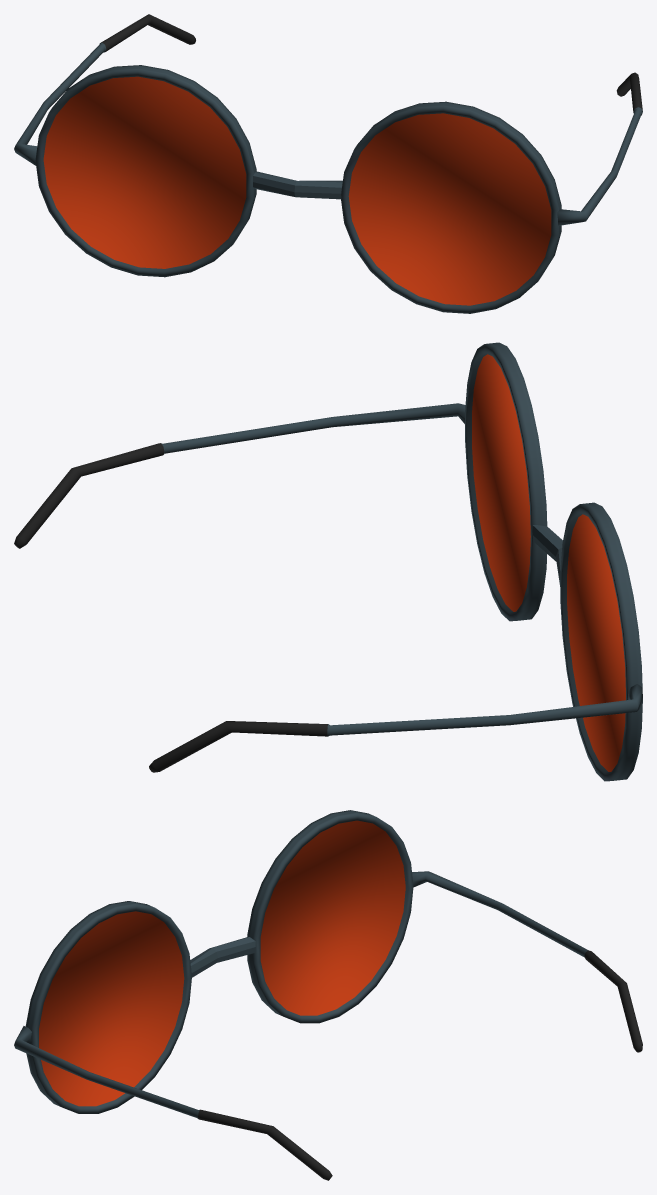
The model's file is redglasses.gltf.
3 renders of one model, top to bottom at view 1: azimuth 30°, elevation 25°; view 2: azimuth 150°, elevation 25°; view 3: azimuth 270°, elevation 25°, orthographic. The views are drawn at different scales.
Parts seen in each view (by area): view 1: glasses_blue; view 2: glasses_blue; view 3: glasses_blue.
Boxes of the visible parts, x1,y1,x2,y2 form: glasses_blue: (14, 14, 642, 313); glasses_blue: (14, 342, 642, 781); glasses_blue: (14, 810, 642, 1180).
Bounding box in the file's own units: 0.3248 × 0.1143 × 0.326.
2 materials, 2 textured.
